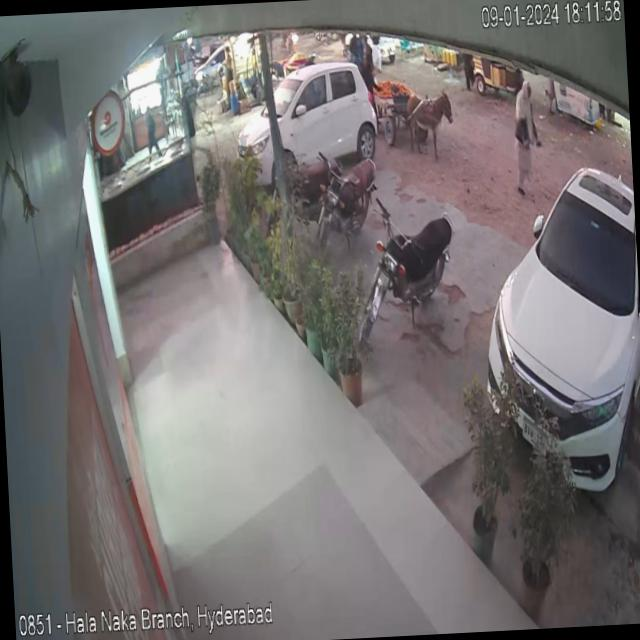Car: (471, 120, 640, 510), (212, 47, 383, 176)
Motorcycle: (350, 182, 469, 351), (315, 147, 386, 242)
